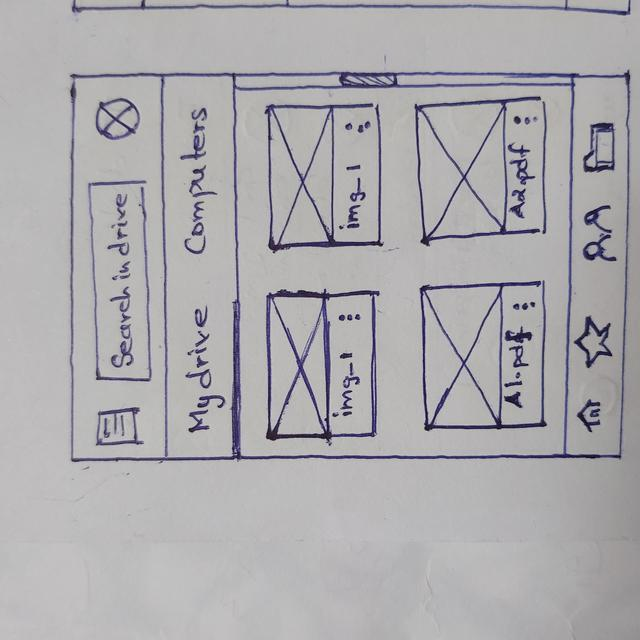AppBar: (69, 72, 171, 461)
BottomNavBar: (569, 74, 626, 460)
BottomNavItems: (569, 99, 630, 188), (571, 195, 629, 284), (566, 300, 622, 383), (563, 384, 623, 460)
CardView: (412, 101, 551, 240), (417, 283, 547, 429), (264, 101, 386, 253), (263, 291, 378, 440)
DrawerToggleButton: (95, 412, 144, 447)
EditText: (87, 182, 150, 382)
GridListView: (238, 89, 558, 455)
Icon: (580, 202, 620, 268), (574, 315, 616, 369), (581, 122, 618, 176), (575, 398, 605, 434), (343, 122, 374, 134), (510, 116, 540, 127), (338, 313, 363, 324), (512, 301, 536, 309)
Image: (416, 102, 506, 237), (422, 289, 499, 425), (268, 104, 334, 248), (269, 295, 328, 436)
ListView: (240, 91, 553, 448)
MainLayout: (69, 73, 626, 461)
RoundedImage: (93, 99, 144, 138)
ScrollBar: (234, 70, 572, 92)
Tab: (160, 75, 241, 459)
TabItem: (163, 95, 238, 264), (167, 300, 235, 449)
TextView: (185, 106, 210, 256), (186, 306, 213, 436), (504, 327, 534, 411), (509, 142, 534, 225), (340, 160, 364, 231), (337, 348, 358, 420)
VerticalListView: (235, 90, 559, 449)
